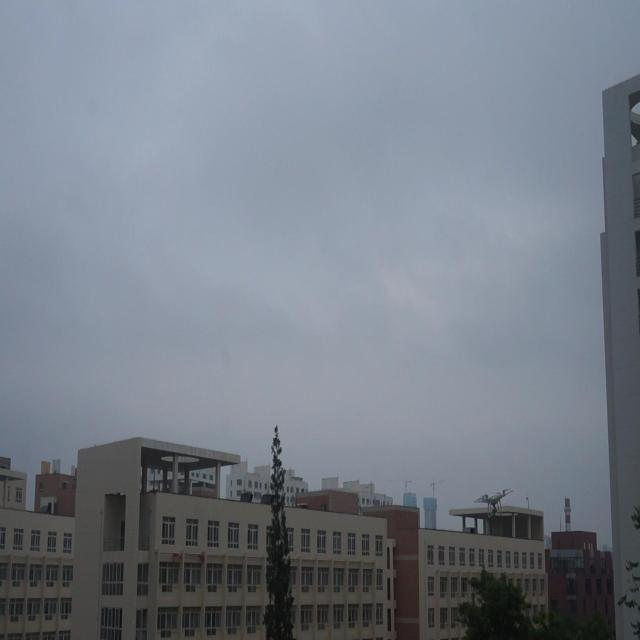drone: (468, 486, 516, 518)
